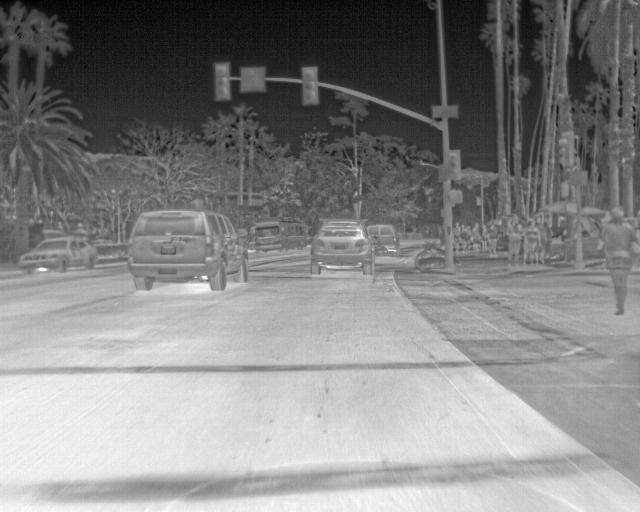bicycle: (124, 207, 241, 292), (306, 218, 371, 278), (17, 234, 99, 277), (365, 222, 398, 253)
empty: (598, 206, 636, 316), (506, 210, 524, 270), (520, 218, 540, 267), (485, 221, 499, 256), (472, 222, 485, 253), (451, 221, 464, 252)
